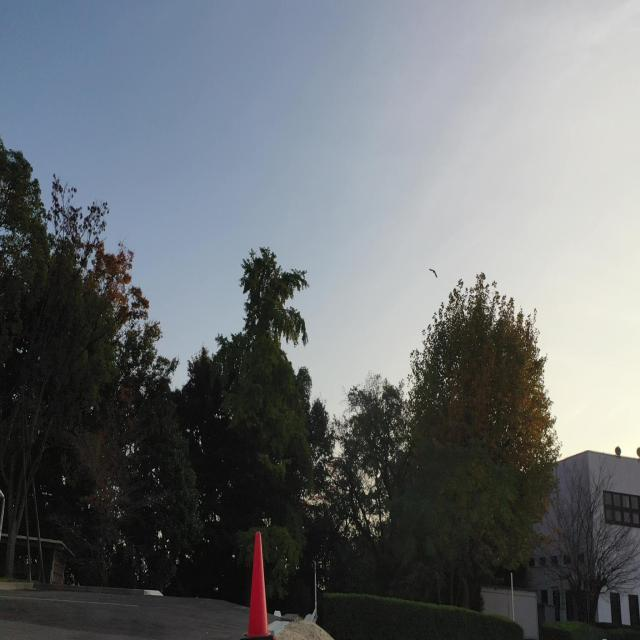Birds: (423, 254, 445, 288)
